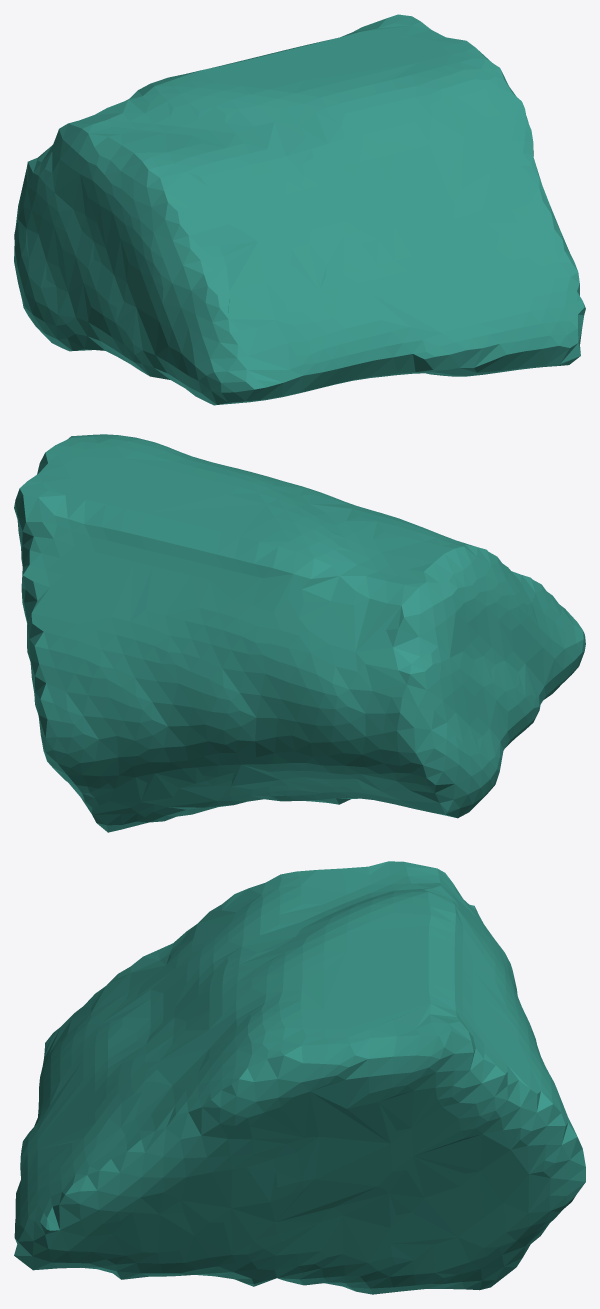
File: Model_10111_LH__Parietal_areas_PGa_and_IPa_(fundus_of_superior_temporal_ventral_area)_(PGa_IPa).obj
3 views of the same model, one above another, from view 1: azimuth 30°, elevation 25°; view 2: azimuth 150°, elevation 25°; view 3: azimuth 270°, elevation 25° (orthographic). The views are drawn at different scales.
Bounding box in the file's own units: 2.47 × 1.51 × 2.5.
